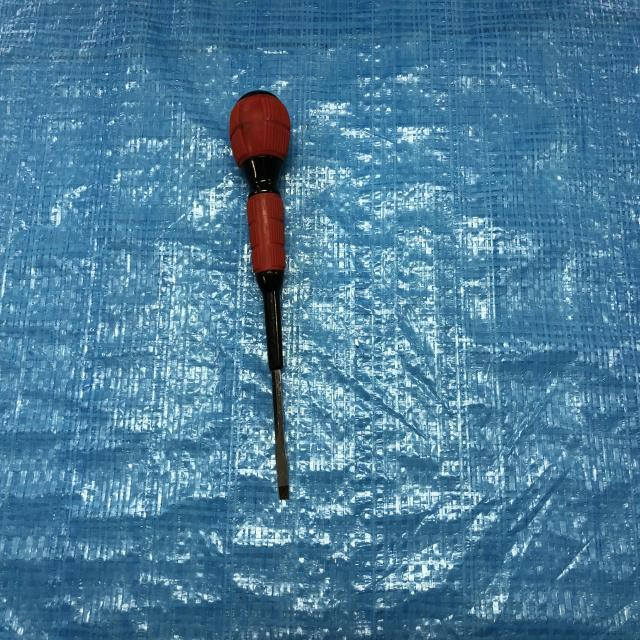screwdriver: (228, 91, 294, 504)
